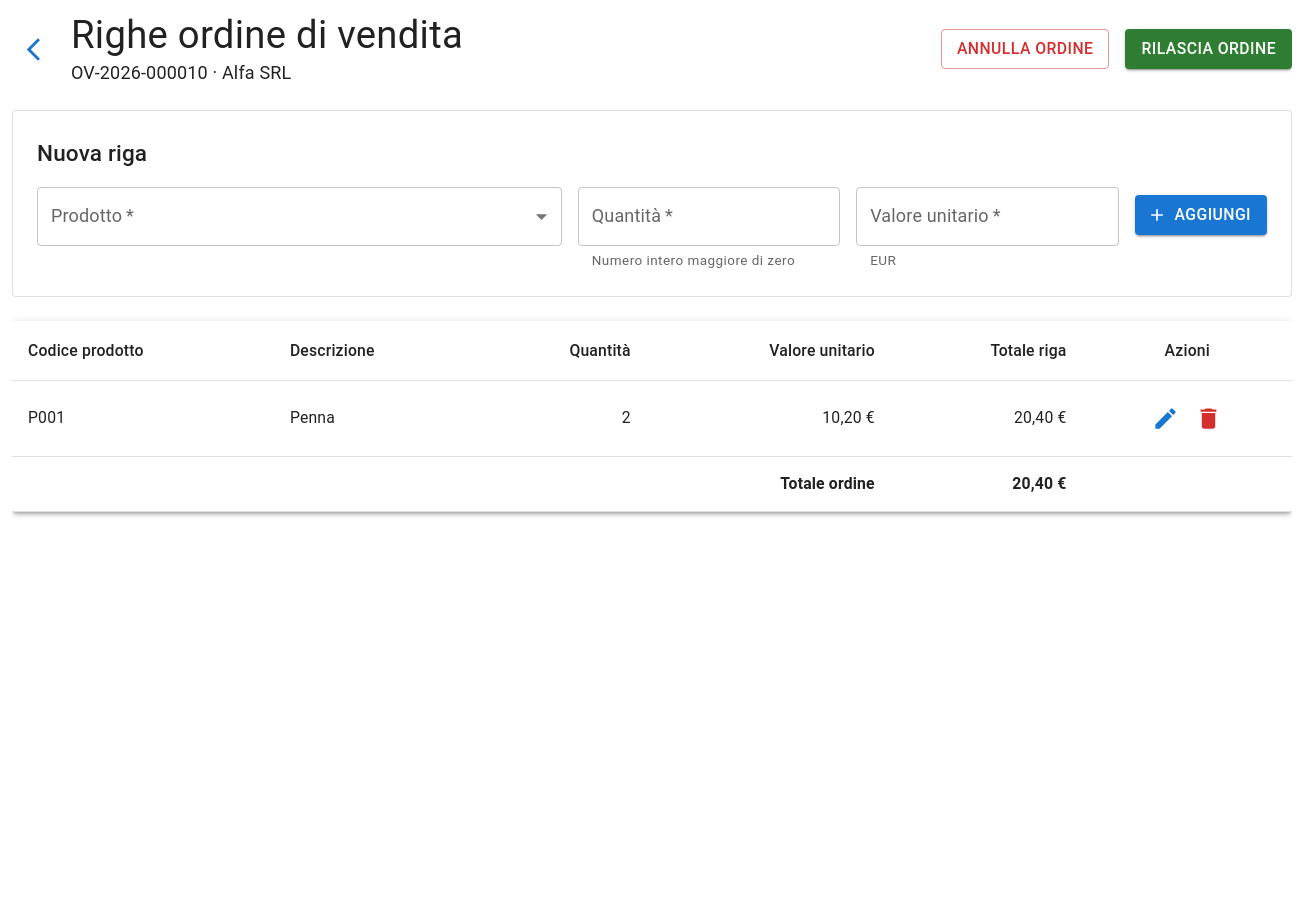
RigheOrdineVendita › aggiunge una riga usando il valore di vendita del prodotto
expect the text "P001" is shown: met, box [12,380,274,456]
Select "P002 — Quaderno" in the dropdown labelled "Prodotto": (299, 217) [37,187,562,246]
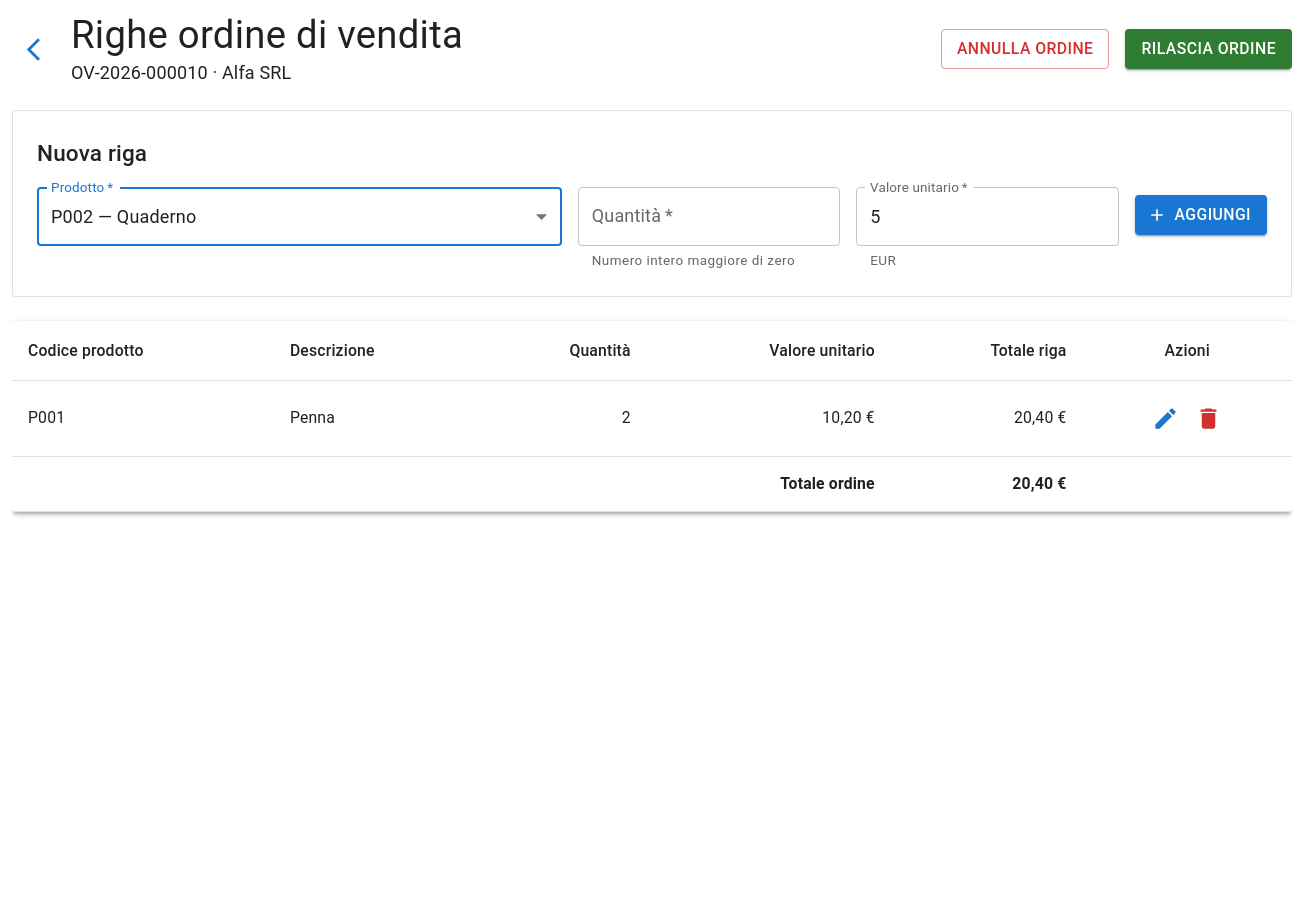
expect the field labelled "Valore unitario" holds "5": met, box [856,187,1118,246]
In the number field labelled "Quantità": (709, 217) [578,187,840,246], type "3"
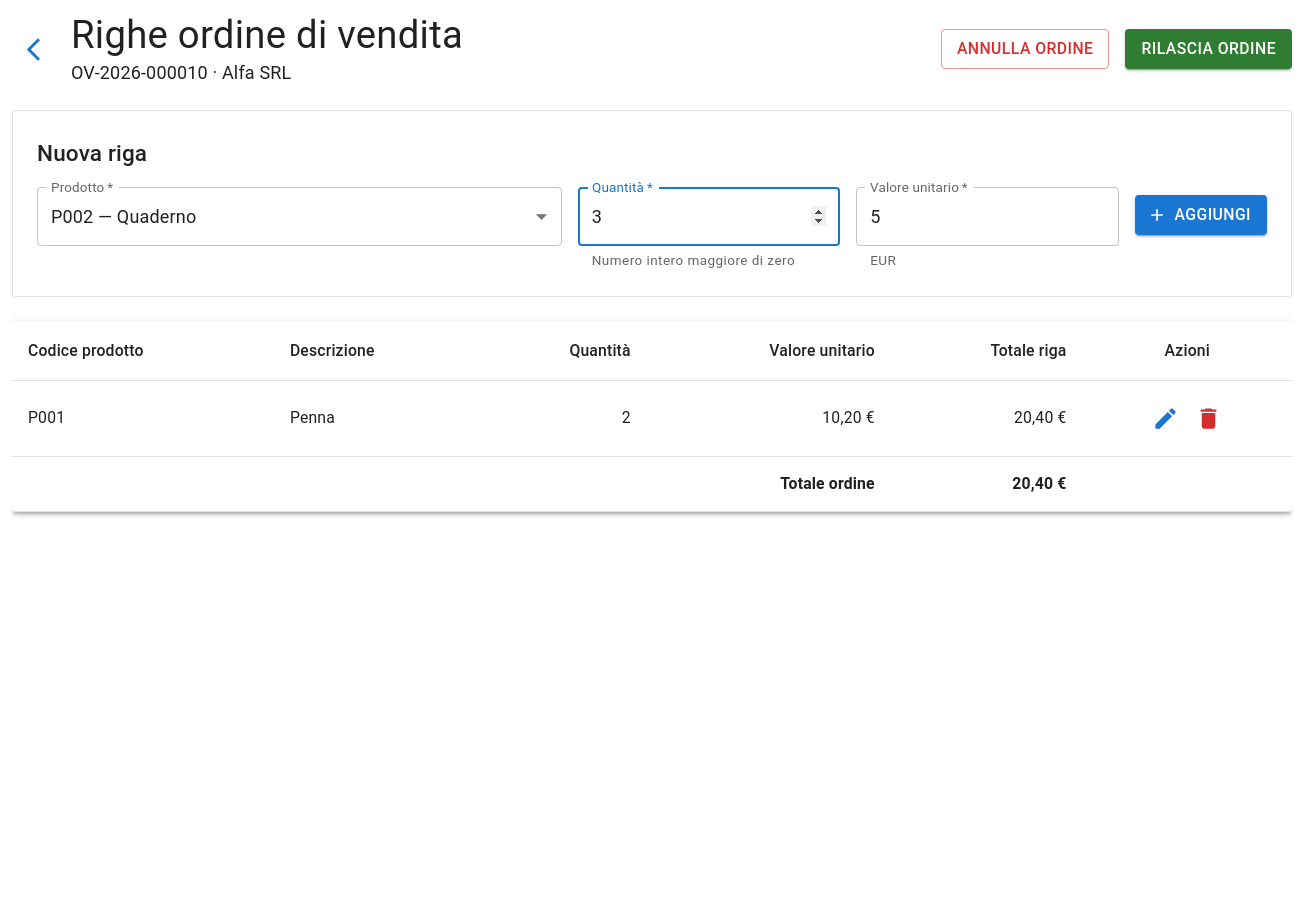
Click the button "Aggiungi": (1201, 215) [1134,195,1267,235]
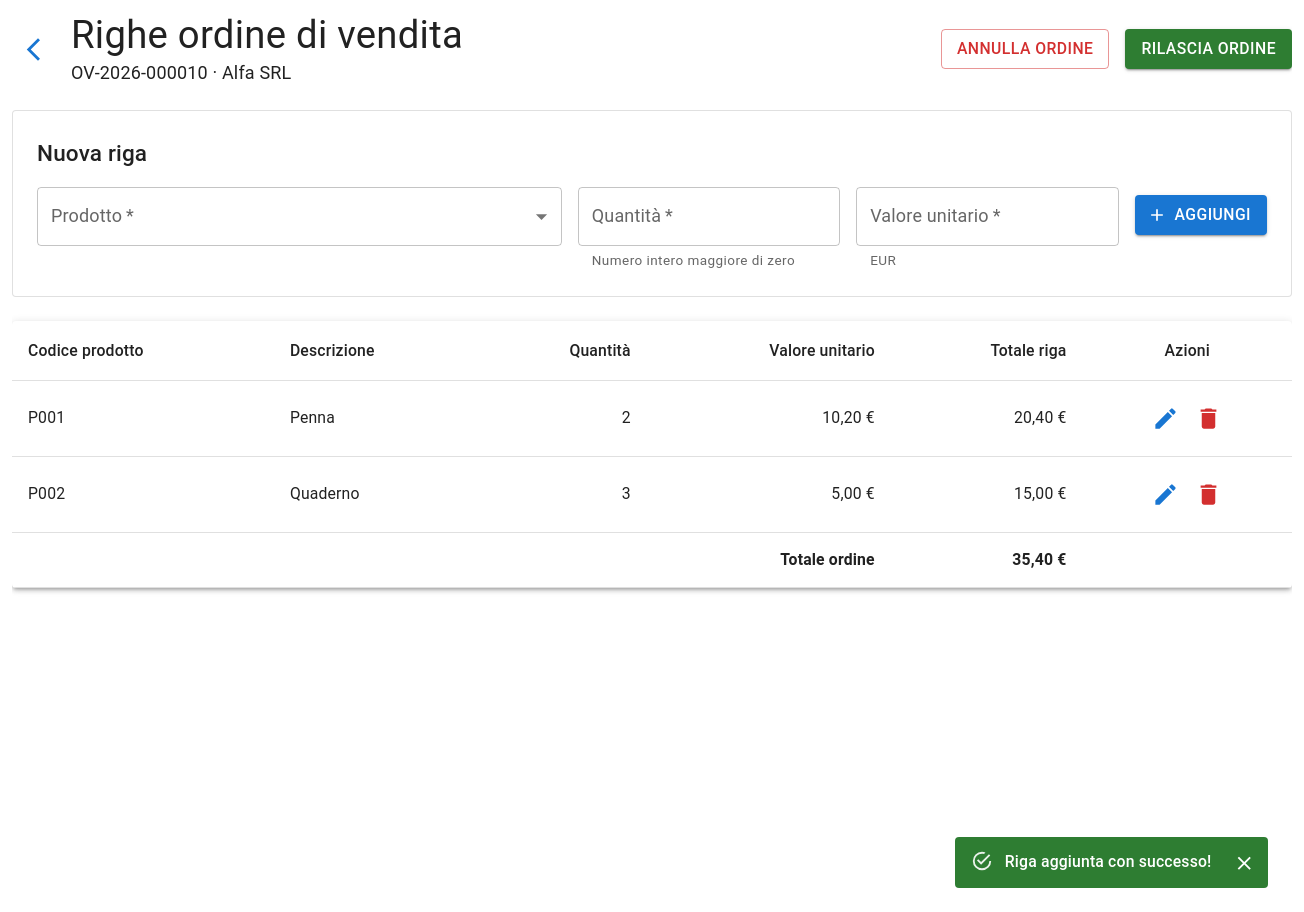
expect the text "Quaderno" is shown: met, box [274,456,481,532]
expect the text "Riga aggiunta con successo!" is shown: met, box [1005,852,1212,872]
